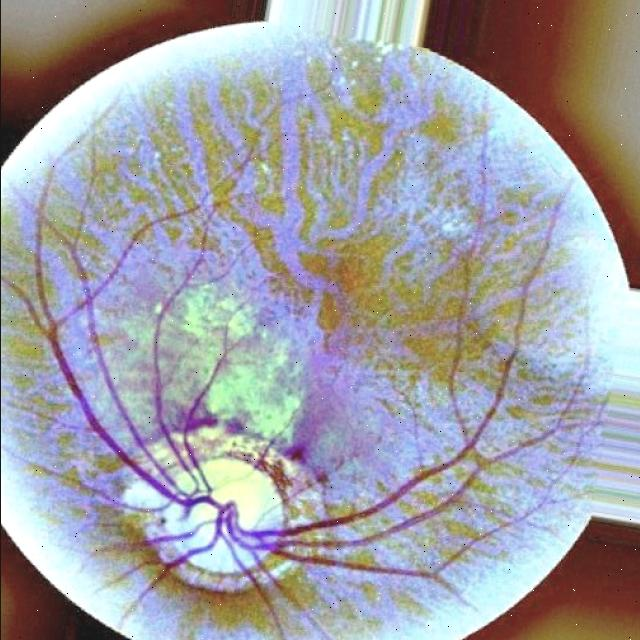Macula: (281, 226, 397, 348)
Nerves: (0, 140, 186, 506), (186, 448, 488, 628)
Optic Disk: (136, 436, 316, 593)
